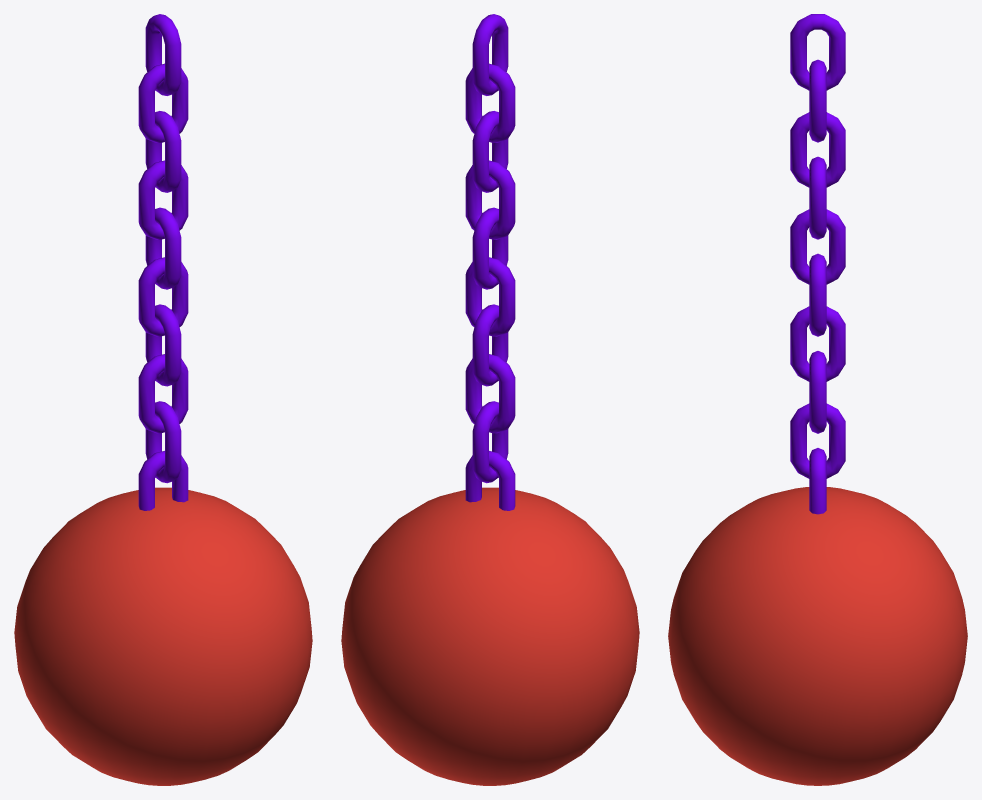
File: Hanging_Hammer_02.fbx
3 views of the same model, side by side, from view 1: azimuth 30°, elevation 25°; view 2: azimuth 150°, elevation 25°; view 3: azimuth 270°, elevation 25° (orthographic).
Visible parts, largest first — view 1: Obstacle_Hanging_Hammer_02; view 2: Obstacle_Hanging_Hammer_02; view 3: Obstacle_Hanging_Hammer_02.
Boxes of the visible parts, <box> form: Obstacle_Hanging_Hammer_02: <box>14,14,312,785</box>; Obstacle_Hanging_Hammer_02: <box>341,14,639,785</box>; Obstacle_Hanging_Hammer_02: <box>668,14,967,785</box>.
Bounding box in the file's own units: 147 × 411 × 147.
1 material, 1 textured.
